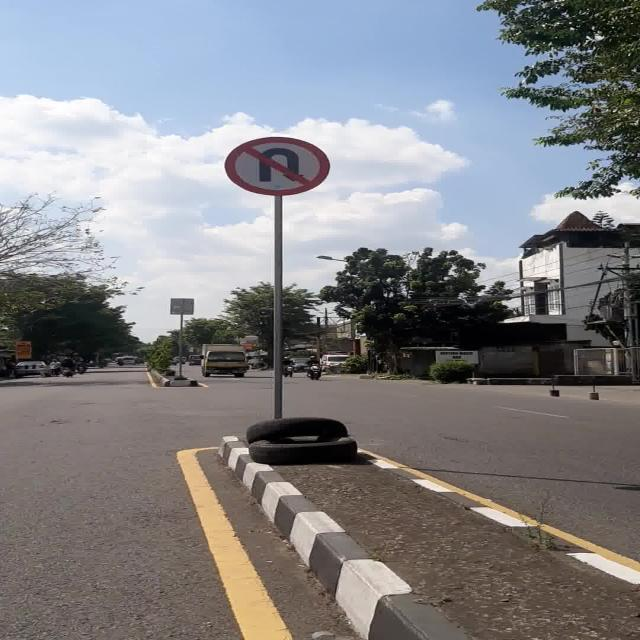Dilarang Putar Balik: (224, 136, 330, 196)
